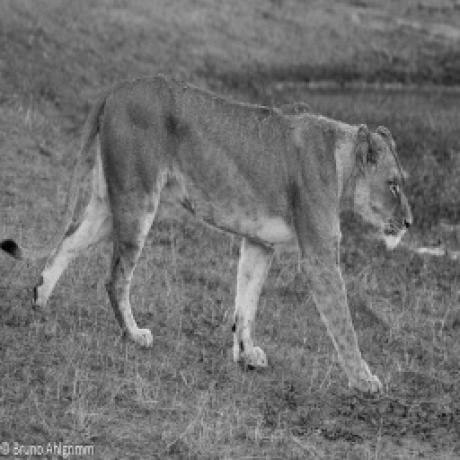Lion: (0, 75, 413, 397)
